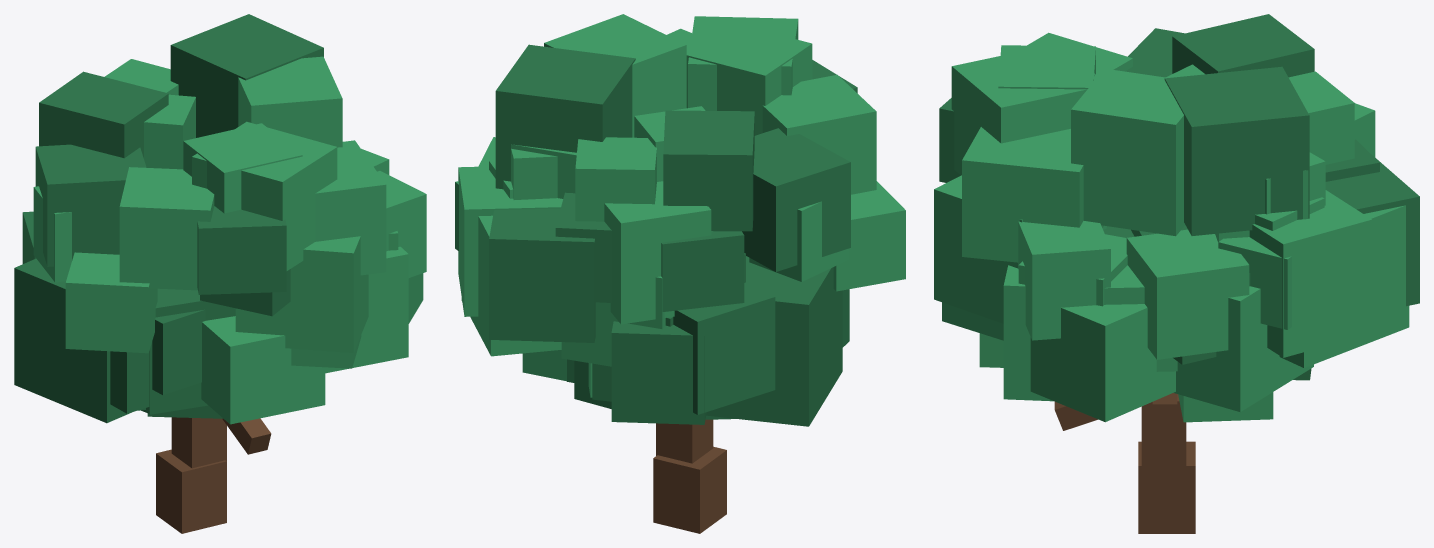
File: treeBroad.glb
3 views of the same model, side by side, from view 1: azimuth 30°, elevation 25°; view 2: azimuth 150°, elevation 25°; view 3: azimuth 270°, elevation 25° (orthographic). The views are drawn at different scales.
Visible parts, largest first — view 1: treeBroad_leafMid, treeBroad_leafDark, treeBroad_bark; view 2: treeBroad_leafDark, treeBroad_leafMid, treeBroad_bark; view 3: treeBroad_leafMid, treeBroad_leafDark, treeBroad_bark.
Part boxes in pixels (x1,y1,x2,y2): treeBroad_leafMid: (33, 56, 426, 424); treeBroad_leafDark: (14, 14, 323, 423); treeBroad_bark: (156, 417, 271, 533); treeBroad_leafDark: (489, 44, 857, 426); treeBroad_leafMid: (455, 14, 905, 397); treeBroad_bark: (653, 419, 726, 533); treeBroad_leafMid: (934, 32, 1409, 422); treeBroad_leafDark: (939, 14, 1419, 380); treeBroad_bark: (1054, 393, 1195, 533).
Bounding box in the file's own units: 9.47 × 10.46 × 9.75.
